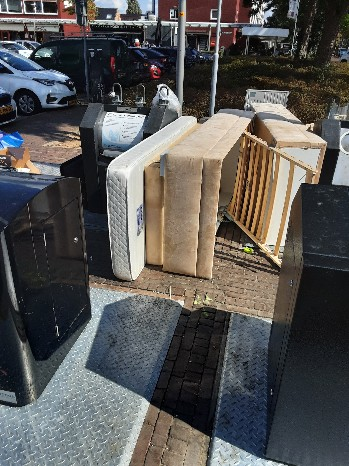Container: (3, 174, 108, 374), (272, 214, 349, 458), (85, 96, 155, 163)
Rest: (164, 109, 266, 262), (114, 114, 198, 270), (257, 81, 317, 226), (0, 128, 29, 169)
Voertuig: (38, 31, 124, 80), (3, 48, 68, 106), (127, 36, 166, 76)
